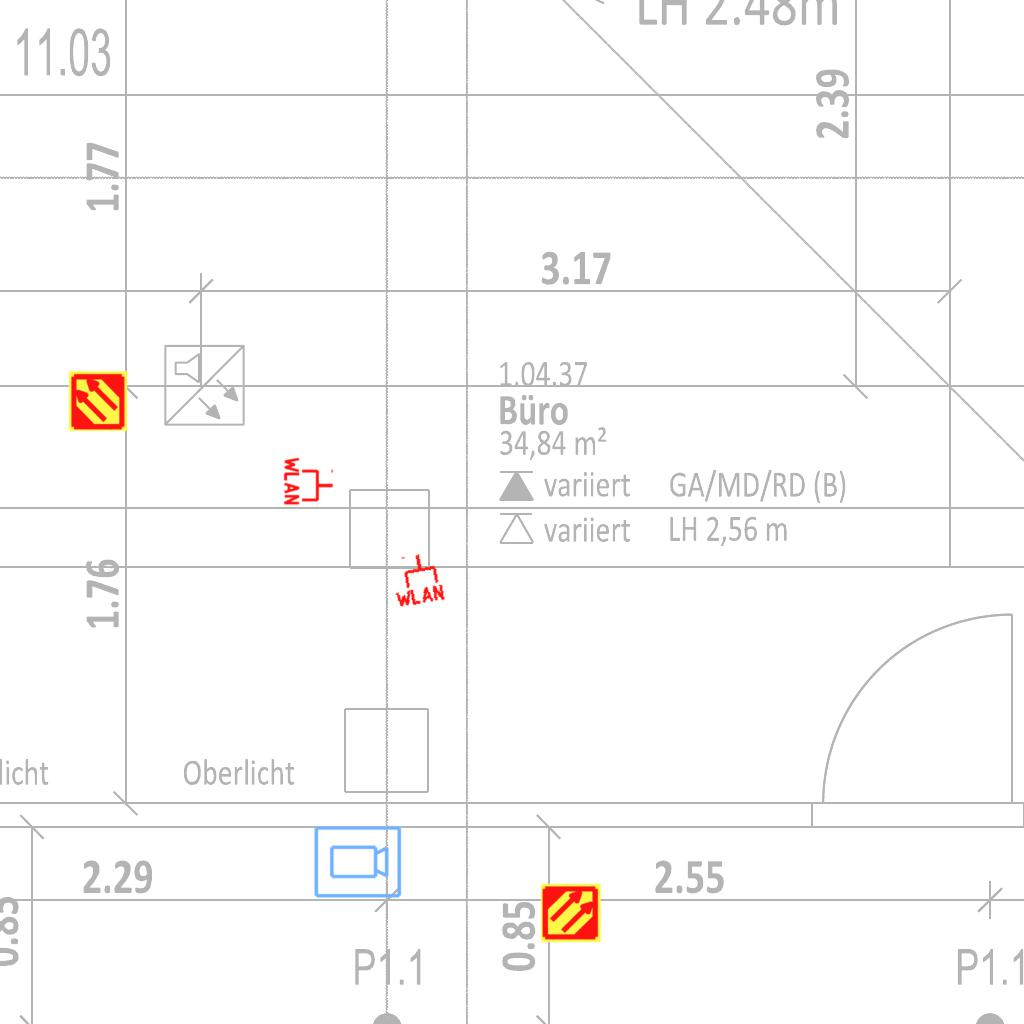ASR_Ansaugrauchmelder: (540, 882, 602, 944), (67, 370, 129, 432)
KFO_Kamera_mit_Festobjektiv: (312, 824, 403, 901)
WLAN: (386, 548, 448, 610), (283, 455, 335, 507)
